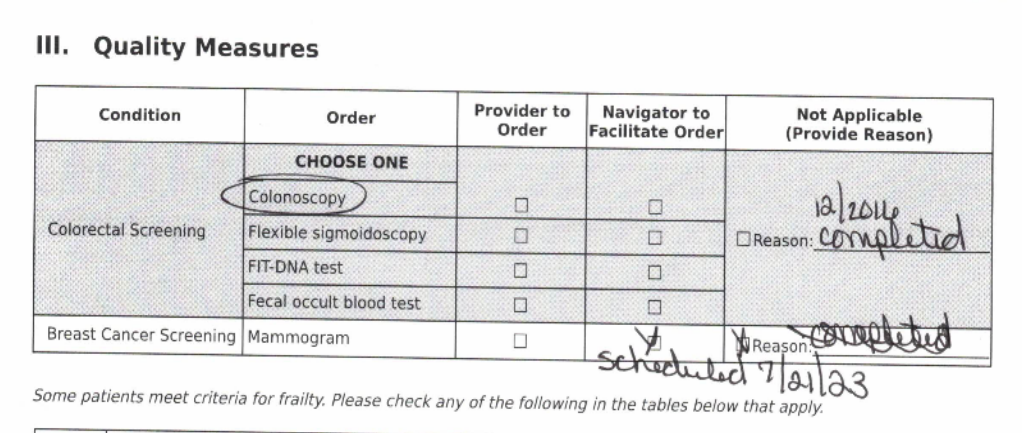checked: (632, 325, 672, 358)
